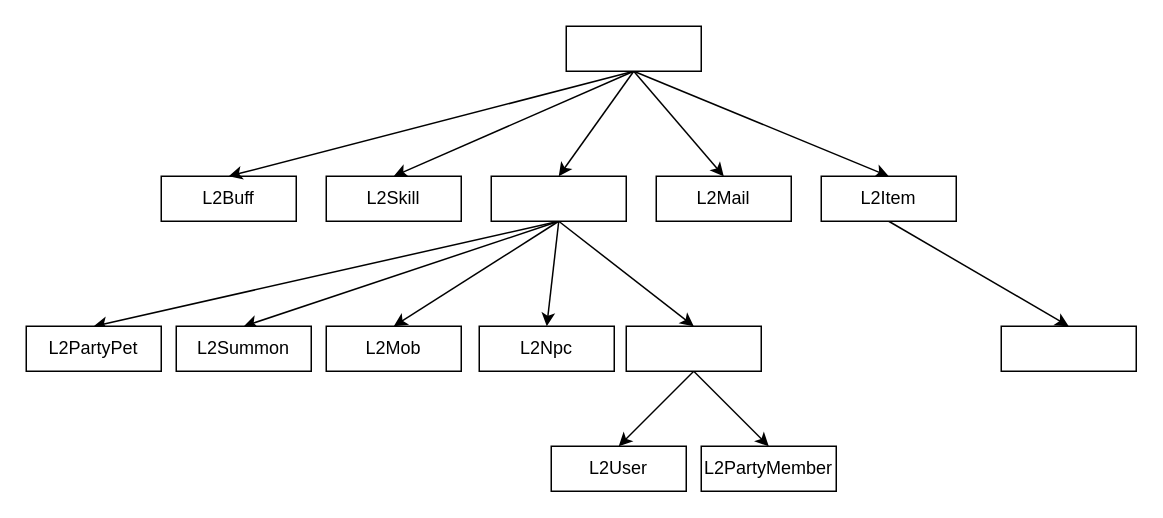
The diagram is 1163 pixels wide and 518 high, and some of its shapes have lost their labels. Each missing label, with the box of its shape:
L2Character: (625, 325, 761, 371)
L2Creature: (490, 175, 626, 221)
L2DroppedItem: (1000, 325, 1136, 371)
L2Object: (565, 25, 701, 71)
